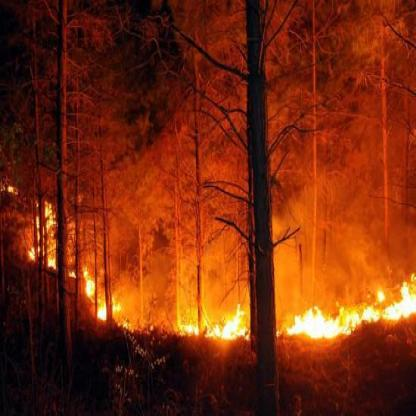fire: (22, 190, 120, 327), (279, 293, 408, 345), (178, 294, 250, 341)
